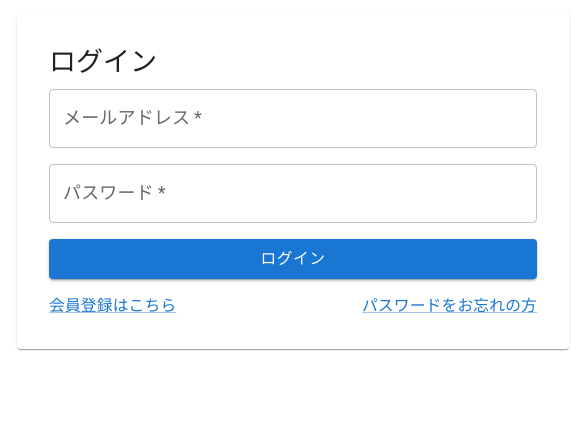
Login › 401 のときに認証情報エラーを表示
The image size is (587, 435).
In the field labelled "メールアドレス *": (293, 119) [49,90,537,148], type "a@b.com"
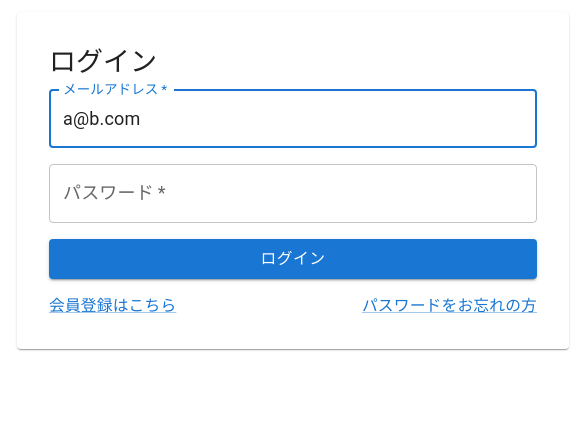
In the password field labelled "パスワード *": (293, 194) [49,164,537,223], type "badpass"
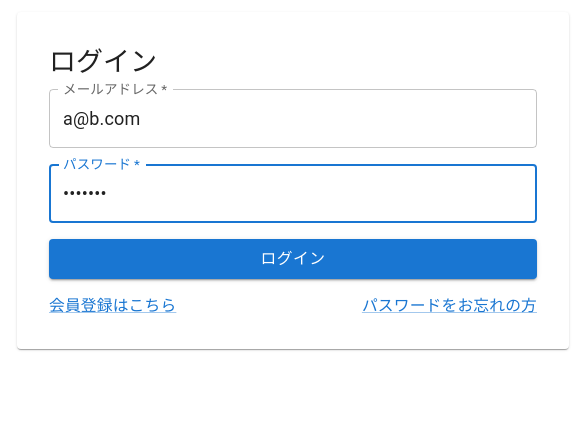
Click the button "ログイン": click(293, 259) [49,239,537,279]
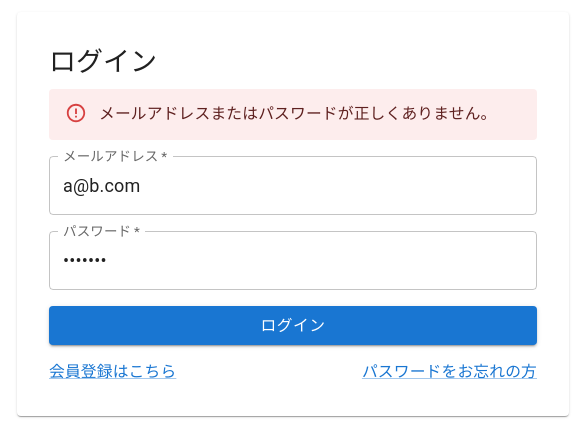
Check: the text "メールアドレスまたはパスワードが正しくありません。" is shown, box [99,104,496,124]
